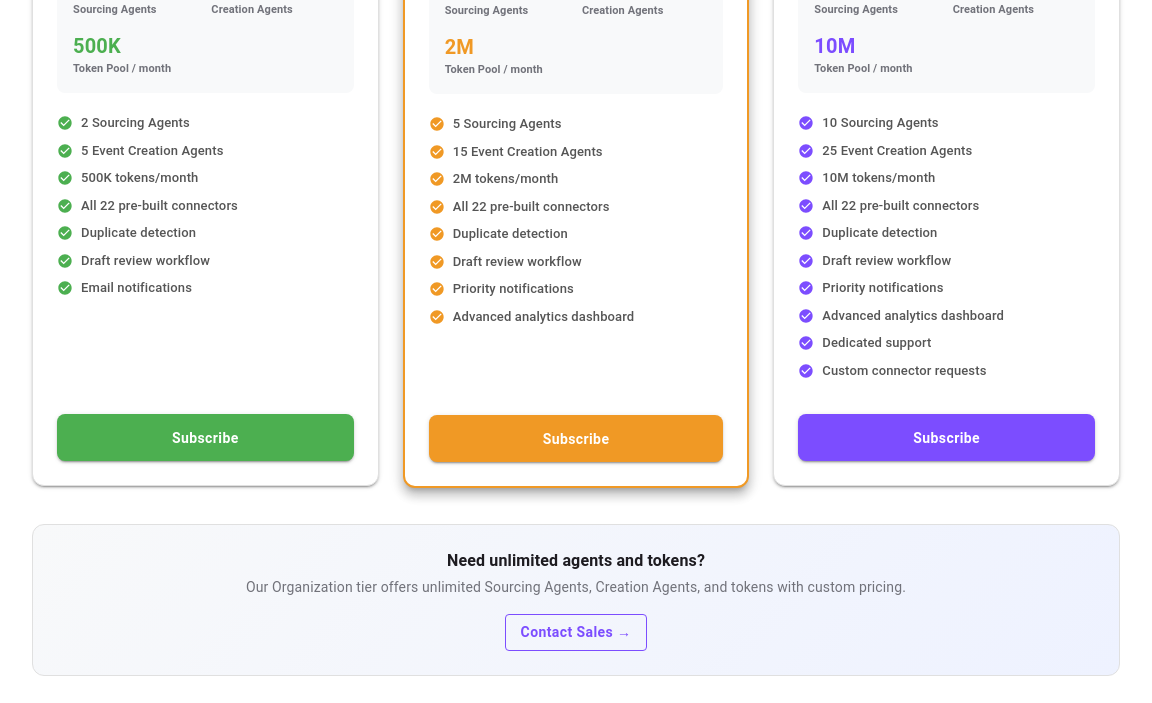
it: AiAgentSubscribe › displays error message when createServiceCheckout fails
(page scrolled)
Click the button "Subscribe" below "Email notifications": x=205, y=438 [57,414,354,461]
(page scrolled)
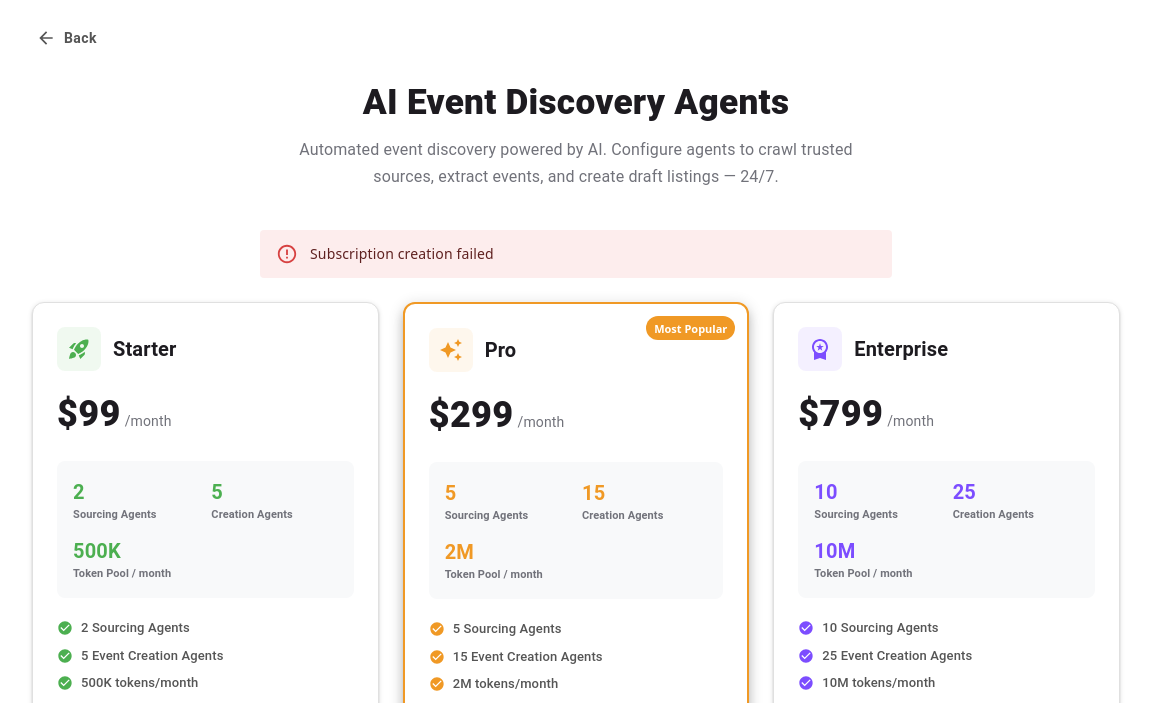
Expected: the text "Subscription creation failed" is shown, [310,244,494,263]
